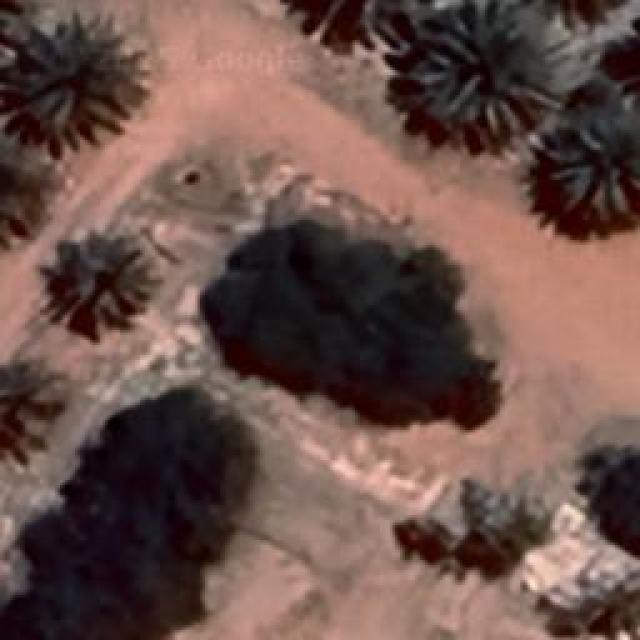PalmTree: (97, 65, 592, 602), (8, 10, 142, 155), (410, 4, 548, 138), (38, 230, 152, 338), (542, 100, 638, 218), (0, 354, 64, 458), (0, 128, 46, 256), (508, 0, 632, 23), (0, 0, 22, 69)
